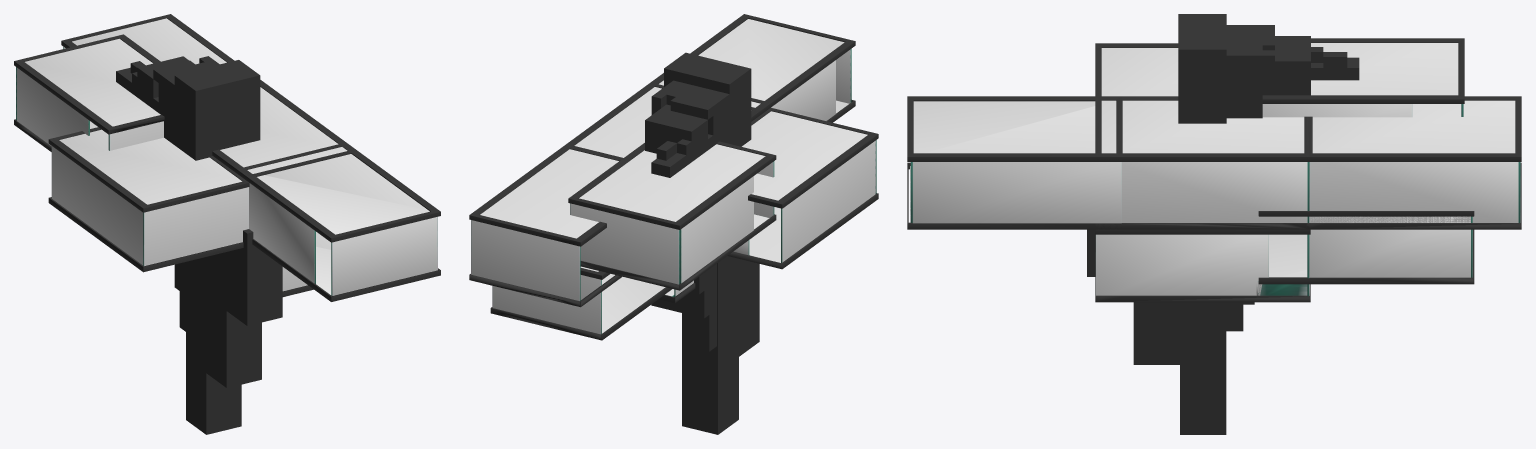
Rendered from cpulab.glb.
3 views of the same model, side by side, from view 1: azimuth 30°, elevation 25°; view 2: azimuth 150°, elevation 25°; view 3: azimuth 270°, elevation 25° (orthographic). The views are drawn at different scales.
Visible parts, largest first — view 1: assorted_display_cubes_1433.001, rectangular_fish_tank_1468_glass.002, assorted_display_cubes_1433, rectangular_fish_tank_1468_glass.006, rectangular_fish_tank_1468_glass.026, rectangular_fish_tank_1468_glass.010, rectangular_fish_tank_1468_glass.027, rectangular_fish_tank_1468_glass.001, rectangular_fish_tank_1468_frame.006, rectangular_fish_tank_1468_glass.019, rectangular_fish_tank_1468_frame.002, rectangular_fish_tank_1468_glass.029 (+7 smaller); view 2: assorted_display_cubes_1433, assorted_display_cubes_1433.001, rectangular_fish_tank_1468_glass.027, rectangular_fish_tank_1468_glass.003, rectangular_fish_tank_1468_glass.026, rectangular_fish_tank_1468_glass.006, rectangular_fish_tank_1468_glass.004, rectangular_fish_tank_1468_glass.002, rectangular_fish_tank_1468_glass.007, rectangular_fish_tank_1468_frame.007, rectangular_fish_tank_1468_glass.029, rectangular_fish_tank_1468_frame.004 (+12 smaller); view 3: assorted_display_cubes_1433, rectangular_fish_tank_1468_glass.011, rectangular_fish_tank_1468_glass.024, rectangular_fish_tank_1468_glass.021, rectangular_fish_tank_1468_glass.036, rectangular_fish_tank_1468_glass.006, assorted_display_cubes_1433.001, rectangular_fish_tank_1468_glass.004, rectangular_fish_tank_1468_glass.034, rectangular_fish_tank_1468_glass.001, rectangular_fish_tank_1468_glass.027, rectangular_fish_tank_1468_frame.006 (+11 smaller).
Boxes of the visible parts, <box> form: assorted_display_cubes_1433.001: <box>186,229,282,434</box>; rectangular_fish_tank_1468_glass.002: <box>51,146,248,266</box>; assorted_display_cubes_1433: <box>116,56,260,160</box>; rectangular_fish_tank_1468_glass.006: <box>257,154,429,234</box>; rectangular_fish_tank_1468_glass.026: <box>59,129,242,204</box>; rectangular_fish_tank_1468_glass.010: <box>331,216,437,295</box>; rectangular_fish_tank_1468_glass.027: <box>25,38,160,126</box>; rectangular_fish_tank_1468_glass.001: <box>220,87,347,173</box>; rectangular_fish_tank_1468_frame.006: <box>236,142,440,301</box>; rectangular_fish_tank_1468_glass.019: <box>249,183,315,283</box>; rectangular_fish_tank_1468_frame.002: <box>48,127,249,272</box>; rectangular_fish_tank_1468_glass.029: <box>17,68,89,145</box>; assorted_display_cubes_1433: <box>645,52,751,177</box>; assorted_display_cubes_1433.001: <box>682,256,759,434</box>; rectangular_fish_tank_1468_glass.027: <box>579,144,765,221</box>; rectangular_fish_tank_1468_glass.003: <box>471,220,580,300</box>; rectangular_fish_tank_1468_glass.026: <box>742,111,867,200</box>; rectangular_fish_tank_1468_glass.006: <box>698,19,844,100</box>; rectangular_fish_tank_1468_glass.004: <box>480,149,618,238</box>; rectangular_fish_tank_1468_glass.002: <box>781,140,876,262</box>; rectangular_fish_tank_1468_glass.007: <box>570,203,679,284</box>; rectangular_fish_tank_1468_frame.007: <box>568,141,776,290</box>; rectangular_fish_tank_1468_glass.029: <box>680,176,753,283</box>; rectangular_fish_tank_1468_frame.004: <box>469,144,622,307</box>; assorted_display_cubes_1433: <box>1178,14,1359,123</box>; rectangular_fish_tank_1468_glass.011: <box>912,162,1121,223</box>; rectangular_fish_tank_1468_glass.024: <box>1309,162,1518,222</box>; rectangular_fish_tank_1468_glass.021: <box>1121,162,1307,222</box>; rectangular_fish_tank_1468_glass.036: <box>1095,234,1268,295</box>; rectangular_fish_tank_1468_glass.006: <box>913,101,1095,153</box>; assorted_display_cubes_1433.001: <box>1087,229,1226,434</box>; rectangular_fish_tank_1468_glass.004: <box>1312,100,1515,153</box>; rectangular_fish_tank_1468_glass.034: <box>1309,216,1470,277</box>; rectangular_fish_tank_1468_glass.001: <box>1101,100,1304,153</box>; rectangular_fish_tank_1468_glass.027: <box>1311,43,1458,95</box>; rectangular_fish_tank_1468_frame.006: <box>907,96,1122,229</box>.
Bounding box in the file's own units: 1.21 × 1.87 × 2.64.
Materials: 6 (3 with a texture image).
